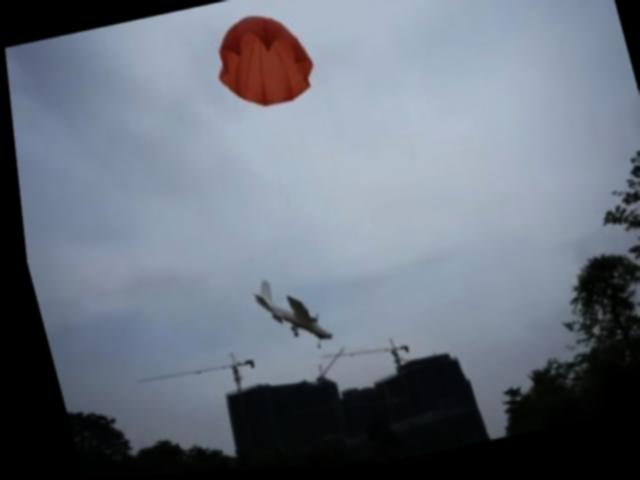uav: (239, 266, 328, 358)
